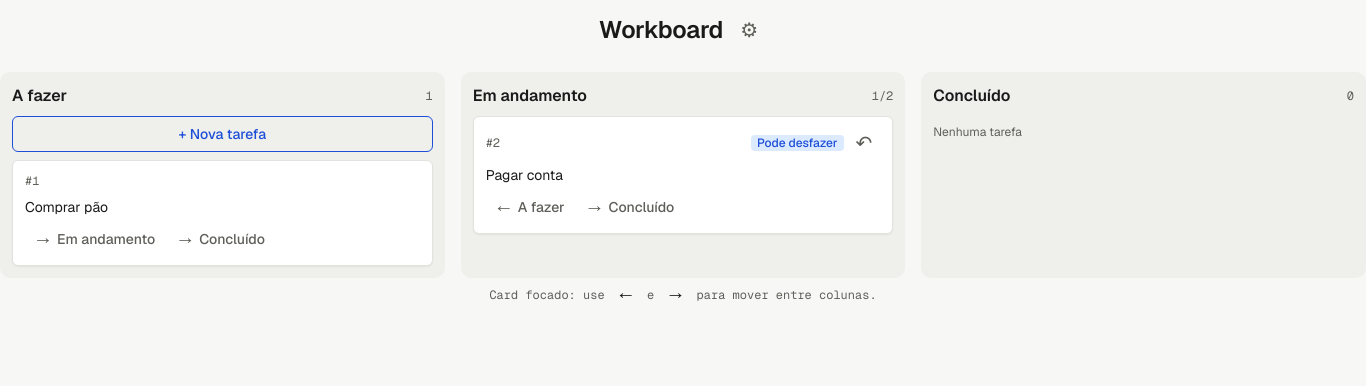
Test: BoardView › undoes the last action and reports when there is nothing left
Step 1. Click the button named "Desfazer #2" → point(864, 143), box [848,129,880,157]
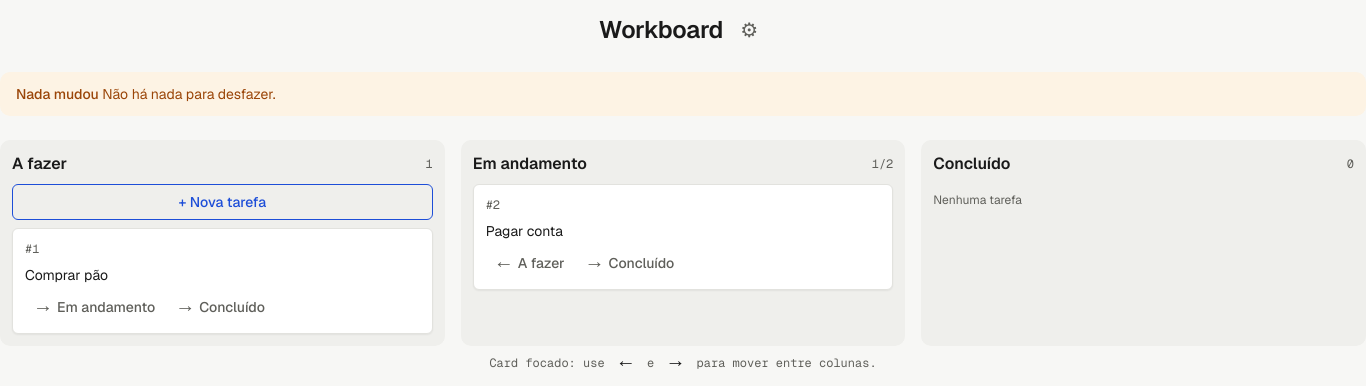
Check: the message shows "Não há nada para desfazer.", box [102,85,275,103]
